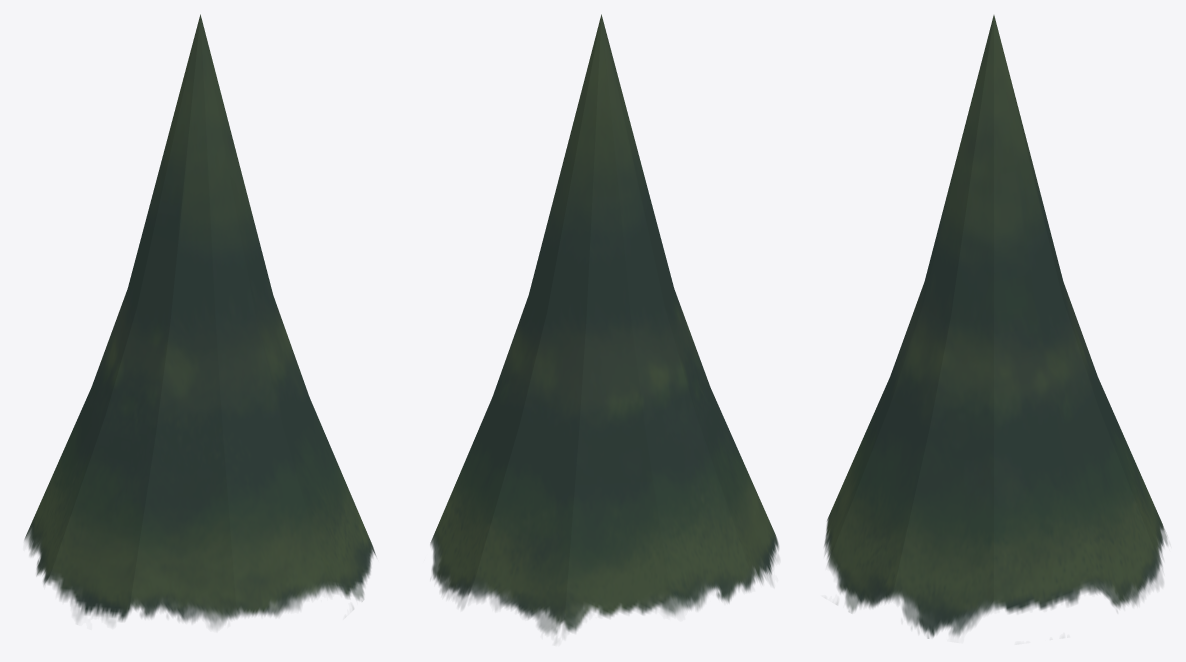
Rendered from polysurface145_lambert6_0_lev2.glb.
3 views of the same model, side by side, from view 1: azimuth 30°, elevation 25°; view 2: azimuth 150°, elevation 25°; view 3: azimuth 270°, elevation 25° (orthographic).
Visible parts, largest first — view 1: polysurface145_lambert6_0_lev2; view 2: polysurface145_lambert6_0_lev2; view 3: polysurface145_lambert6_0_lev2.
Part boxes in pixels (x1,y1,x2,y2): polysurface145_lambert6_0_lev2: (24, 14, 376, 627); polysurface145_lambert6_0_lev2: (430, 14, 778, 634); polysurface145_lambert6_0_lev2: (824, 15, 1167, 638).
Size of the model in its own units: 3.96 by 6.48 by 3.76.
Materials: 1 (1 with a texture image).
